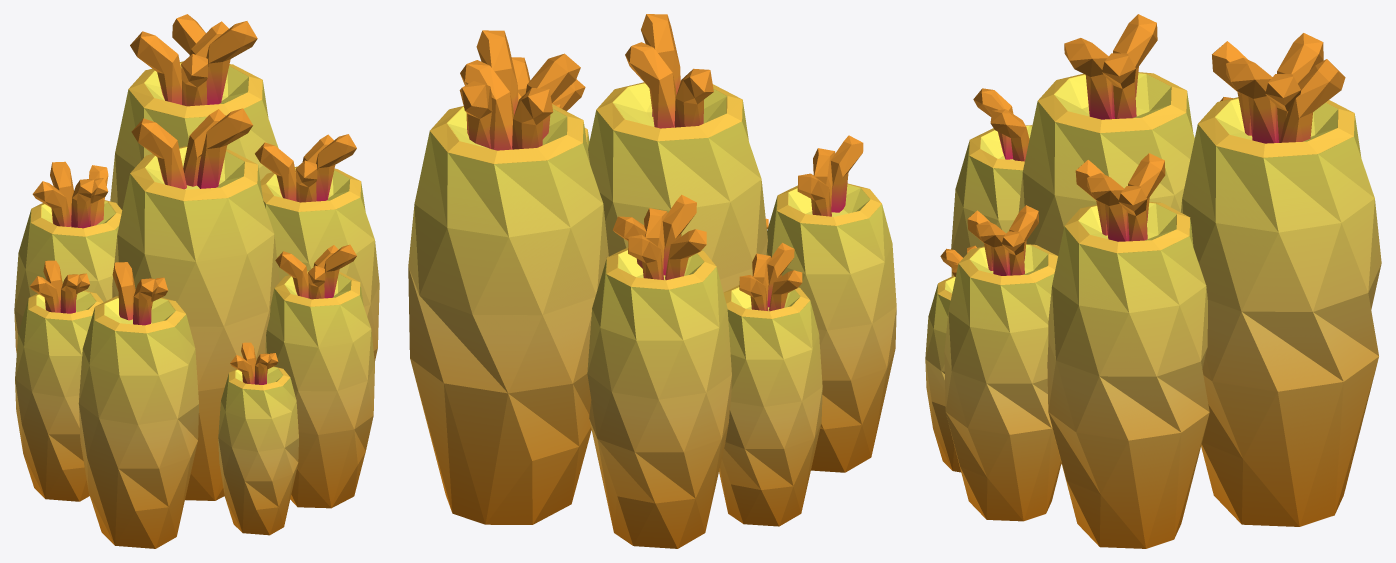
The model's file is SM_Spongia_25.fbx.
3 views of the same model, side by side, from view 1: azimuth 30°, elevation 25°; view 2: azimuth 150°, elevation 25°; view 3: azimuth 270°, elevation 25° (orthographic). The views are drawn at different scales.
Visible parts, largest first — view 1: Spongia_25; view 2: Spongia_25; view 3: Spongia_25.
Part boxes in pixels (x1,y1,x2,y2): Spongia_25: (14, 14, 379, 548); Spongia_25: (408, 14, 896, 548); Spongia_25: (925, 14, 1381, 548).
Size of the model in its own units: 88.39 by 101 by 90.79.
